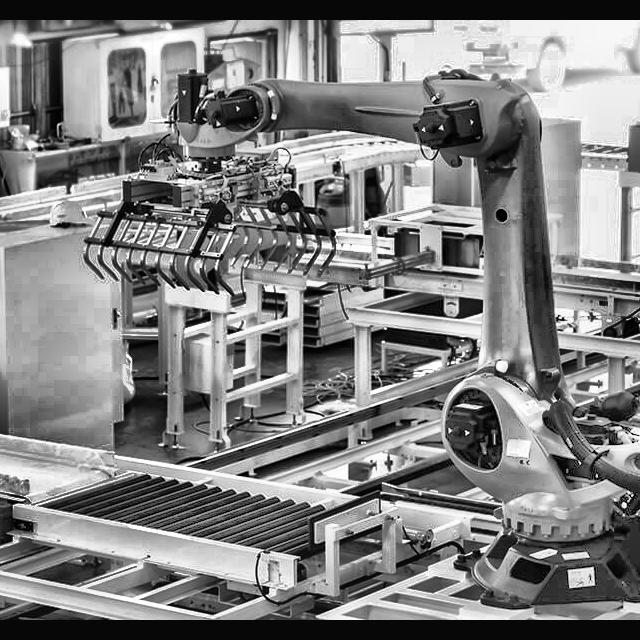robot: (119, 47, 640, 594)
